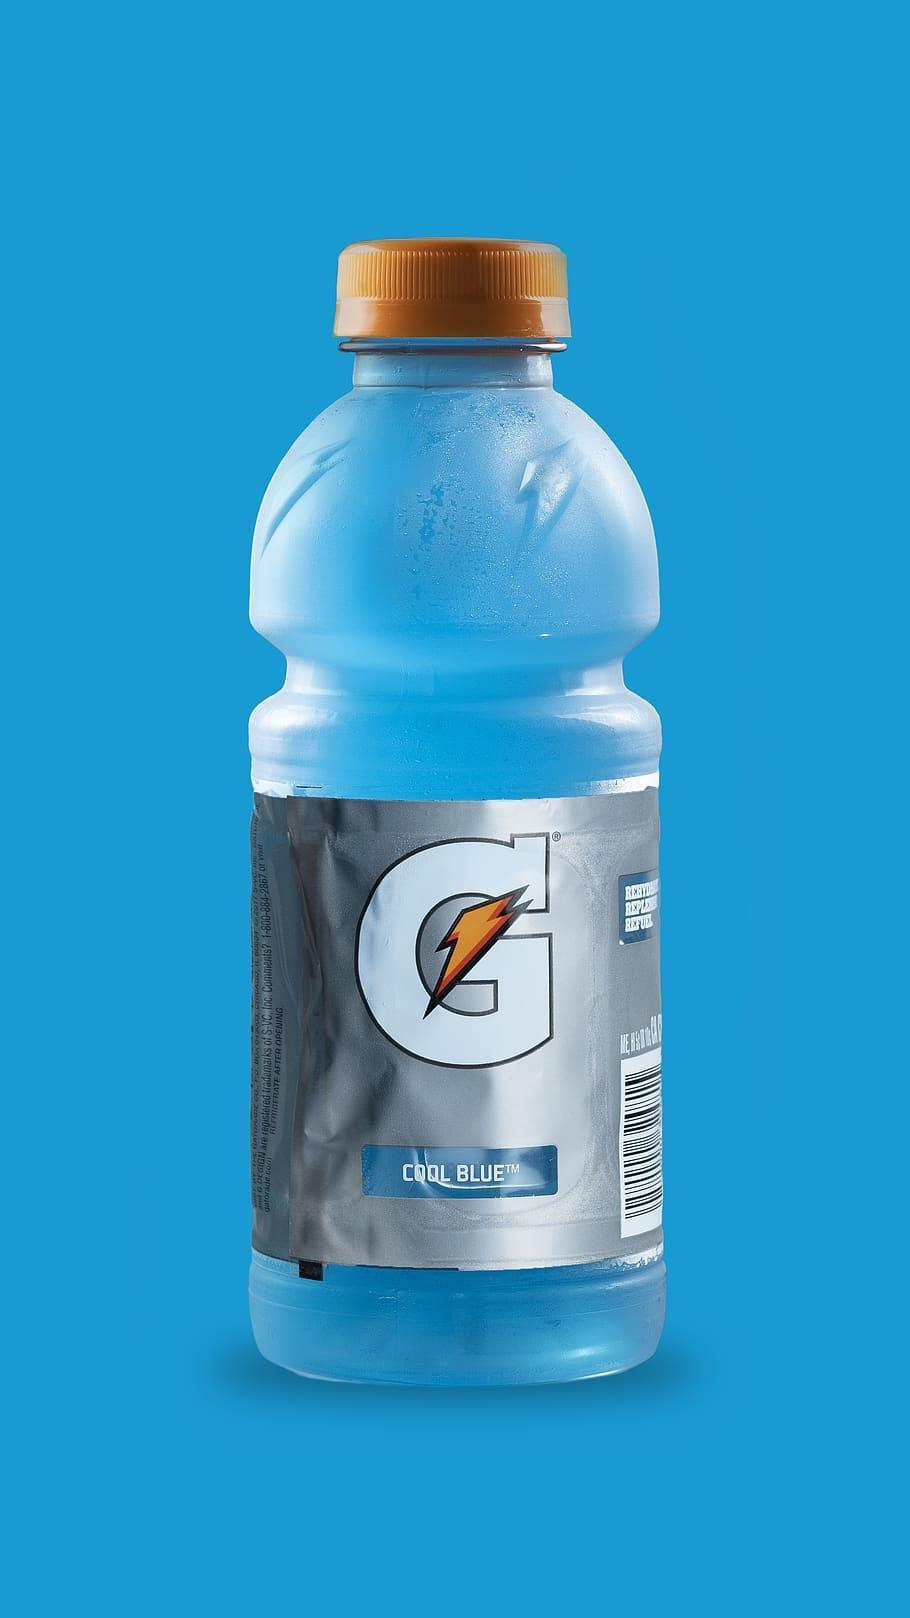bottle: (218, 210, 703, 1421)
